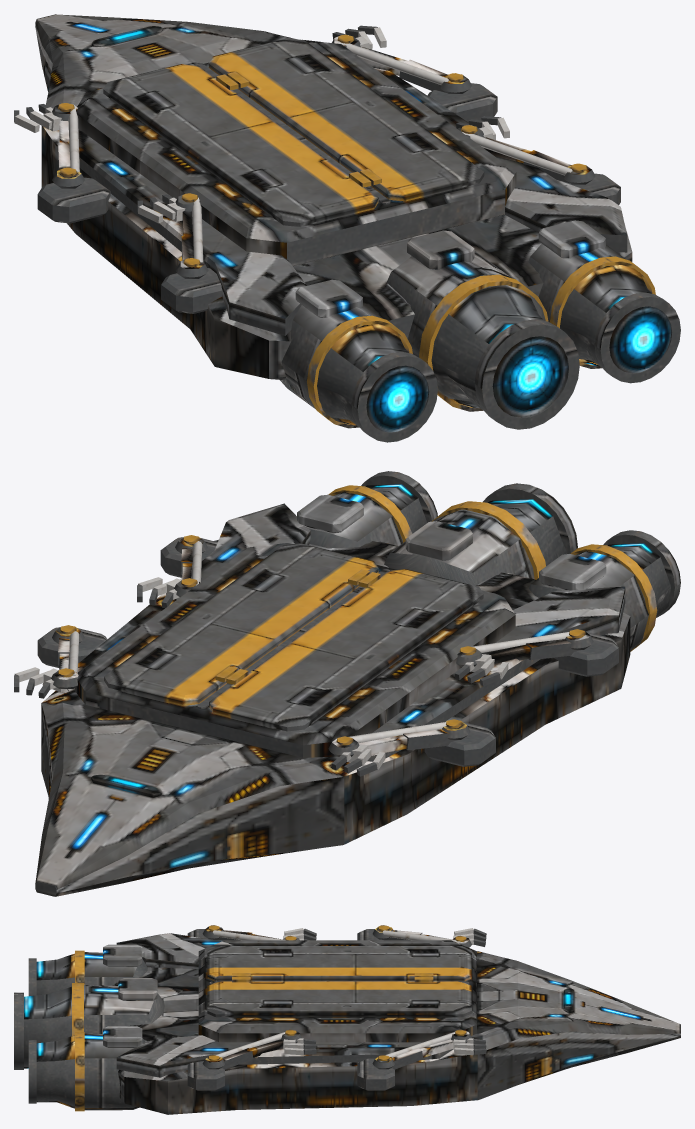
The model's file is combat-freighter-lod2.glb.
The picture shows the model from 3 angles, top to bottom: view 1: azimuth 30°, elevation 25°; view 2: azimuth 150°, elevation 25°; view 3: azimuth 270°, elevation 25°; orthographic projection. The views are drawn at different scales.
Visible parts, largest first — view 1: Static / Reference titanium and industrial fittings, Static / Ventral reference plating; view 2: Static / Reference titanium and industrial fittings, Static / Ventral reference plating; view 3: Static / Reference titanium and industrial fittings, Static / Ventral reference plating.
Part boxes in pixels (left/top/right/bottom): Static / Reference titanium and industrial fittings: left=14, top=14, right=680, bottom=442; Static / Ventral reference plating: left=270, top=214, right=601, bottom=426; Static / Reference titanium and industrial fittings: left=14, top=471, right=680, bottom=896; Static / Ventral reference plating: left=59, top=524, right=667, bottom=893; Static / Reference titanium and industrial fittings: left=14, top=925, right=680, bottom=1114; Static / Ventral reference plating: left=24, top=966, right=677, bottom=1110.
Size of the model in its own units: 10.89 by 3.37 by 20.56.
2 materials, 2 textured.
